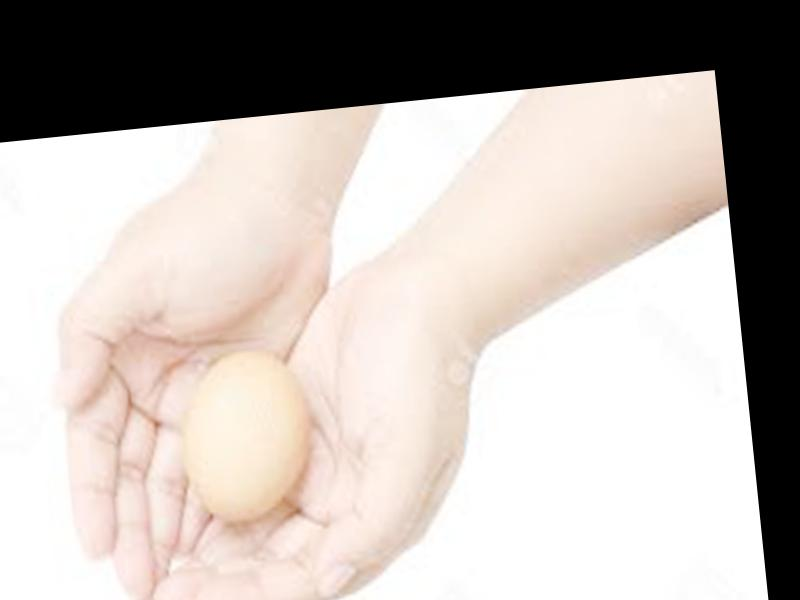Eggs: (177, 348, 318, 521)
